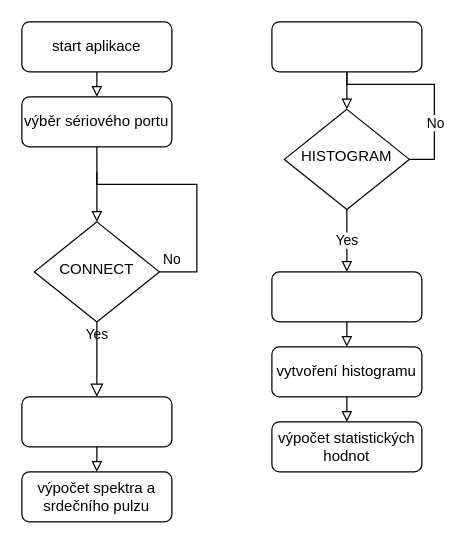
Some shapes in this 465 by 544 pixel diagram are drawn without their labels. Each missing label, with the centre of its shape:
nahrání a zobrazení PPG: pixel 96 421
nahrání dat: pixel 346 296
nastavení length record: pixel 346 46
